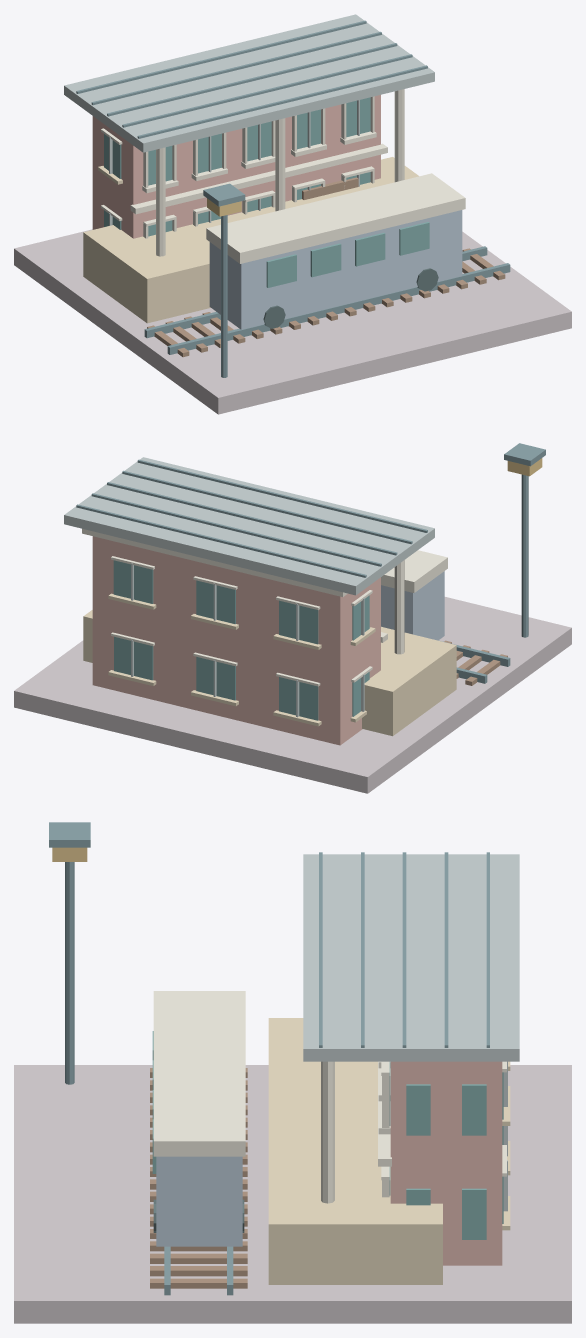
The model's file is dot-tpl-station.glb.
3 views of the same model, one above another, from view 1: azimuth 30°, elevation 25°; view 2: azimuth 150°, elevation 25°; view 3: azimuth 270°, elevation 25° (orthographic). The views are drawn at different scales.
Visible parts, largest first — view 1: paving; view 2: paving; view 3: paving.
Boxes of the visible parts, left/top/right/bottom form: paving: left=14, top=14, right=571, bottom=414; paving: left=14, top=443, right=571, bottom=793; paving: left=14, top=822, right=571, bottom=1323.
Bounding box in the file's own units: 4 × 2.17 × 4.
Materials: 1 (1 with a texture image).
